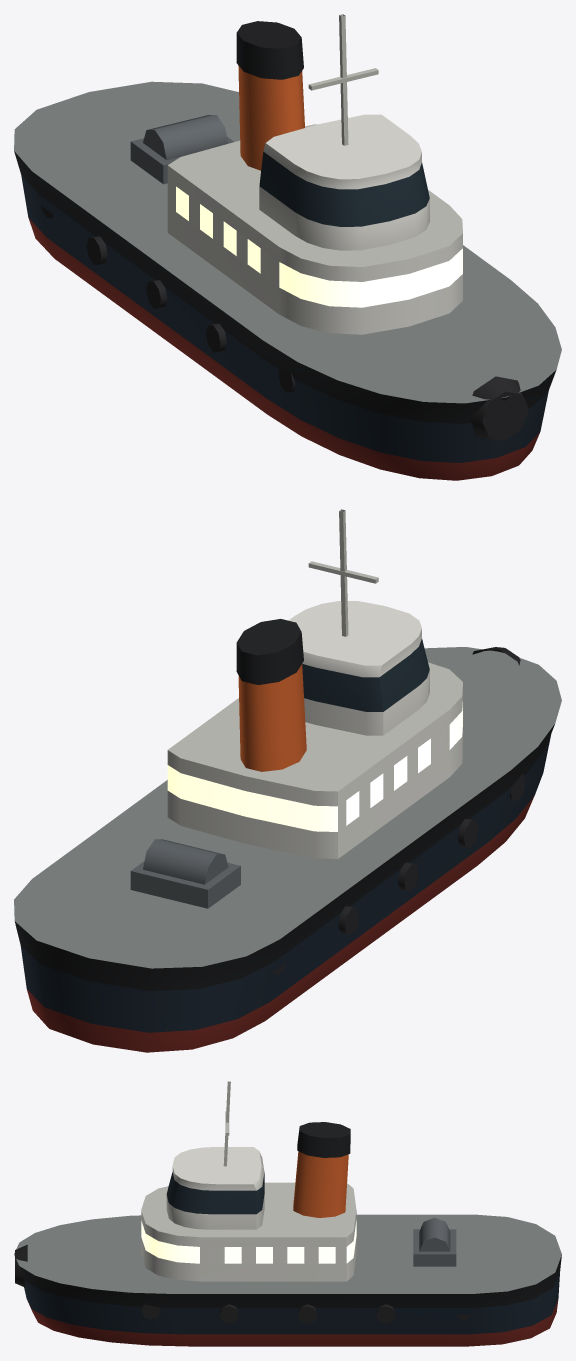
The model's file is tokyo_tug.glb.
The picture shows the model from 3 angles, top to bottom: view 1: azimuth 30°, elevation 25°; view 2: azimuth 150°, elevation 25°; view 3: azimuth 270°, elevation 25°; orthographic projection. The views are drawn at different scales.
Parts seen in each view (by area): view 1: tokyo_tug; view 2: tokyo_tug; view 3: tokyo_tug.
Part boxes in pixels (<box>): tokyo_tug: <box>14,14,561,480</box>; tokyo_tug: <box>14,509,561,1052</box>; tokyo_tug: <box>14,1081,561,1346</box>.
Size of the model in its own units: 10 by 13 by 28.
1 material, 1 textured.
